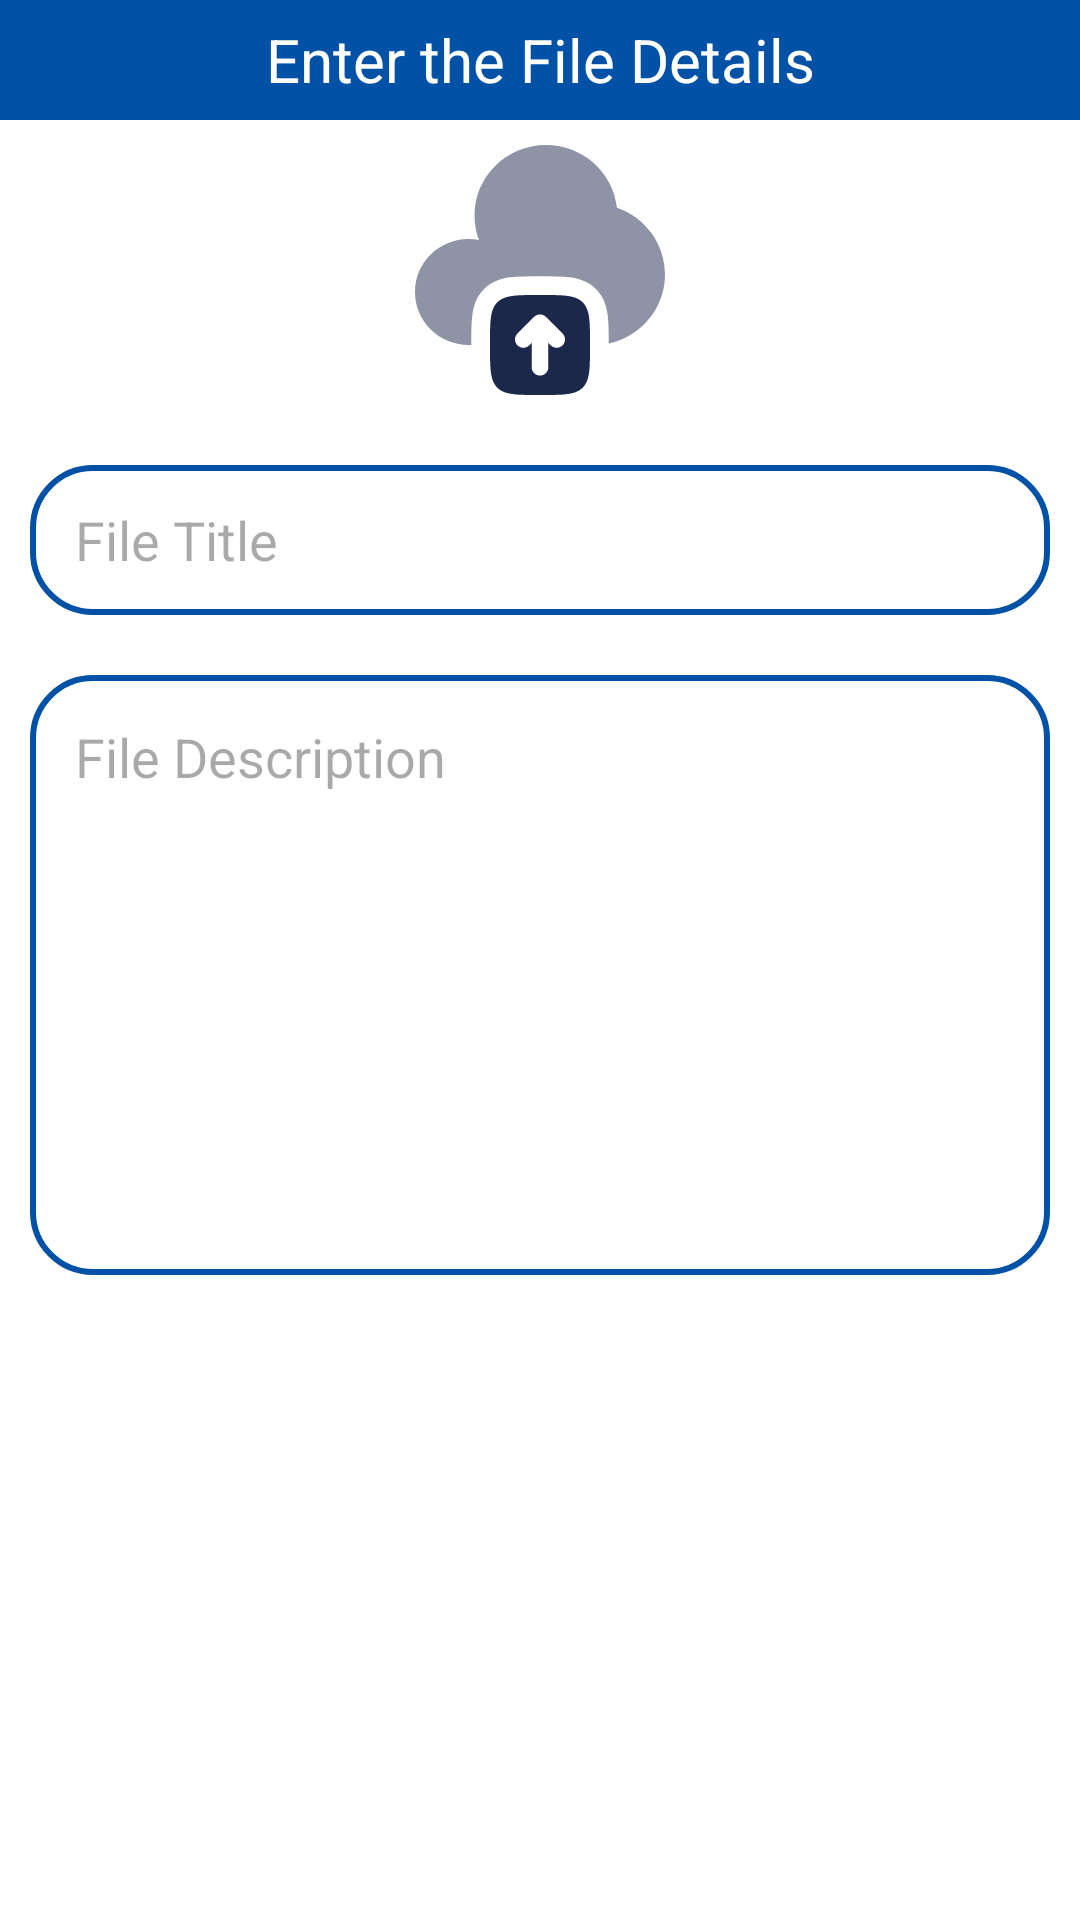

Icon bounding boxes for this 1080 x 1920 phone screenshot, format (x1, y1, x2, y2):
cloud upload: (415, 145, 665, 395)
